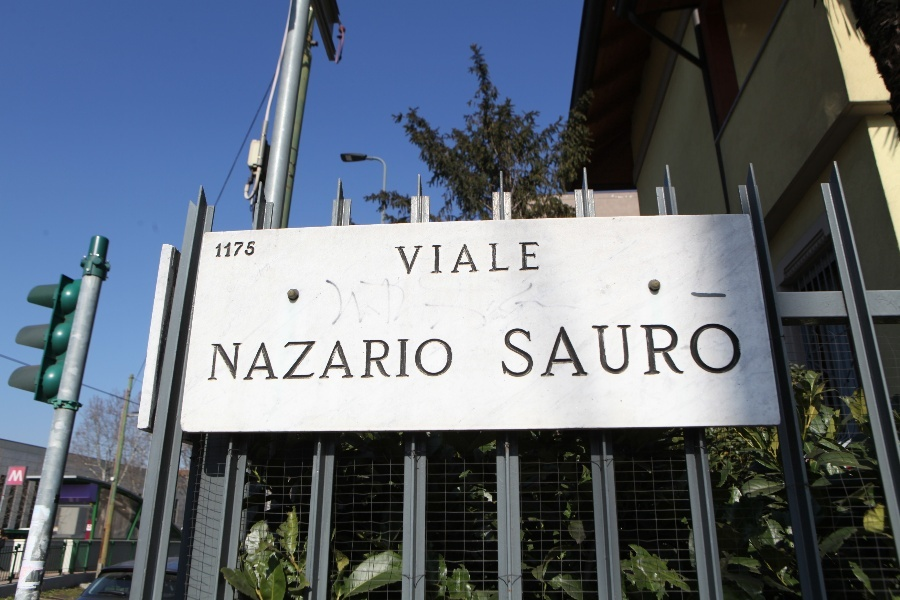text: (513, 320, 528, 379), (529, 320, 544, 379), (545, 320, 560, 379), (561, 320, 576, 379), (577, 320, 592, 379), (593, 320, 608, 379), (609, 320, 624, 379), (625, 320, 640, 379), (641, 320, 656, 379), (657, 320, 672, 379), (673, 320, 688, 379), (689, 320, 704, 379), (705, 320, 720, 379), (721, 320, 736, 379), (225, 336, 240, 384), (241, 336, 256, 384), (257, 336, 272, 384), (273, 336, 288, 384), (289, 336, 304, 384), (305, 336, 320, 384), (321, 336, 336, 384), (337, 336, 352, 384), (353, 336, 368, 384), (369, 336, 384, 384), (385, 336, 400, 384), (401, 336, 416, 384), (417, 336, 432, 384), (433, 336, 448, 384), (211, 336, 224, 384), (503, 320, 512, 379), (401, 241, 416, 276), (417, 241, 432, 276), (433, 241, 448, 276), (449, 241, 464, 276), (465, 241, 480, 276), (481, 241, 496, 276), (497, 241, 512, 276), (513, 241, 528, 276), (529, 241, 540, 276), (737, 320, 743, 379), (449, 336, 455, 384), (241, 241, 257, 258), (225, 241, 240, 258), (394, 241, 400, 276), (215, 241, 224, 258), (17, 470, 24, 483), (13, 470, 16, 483)
